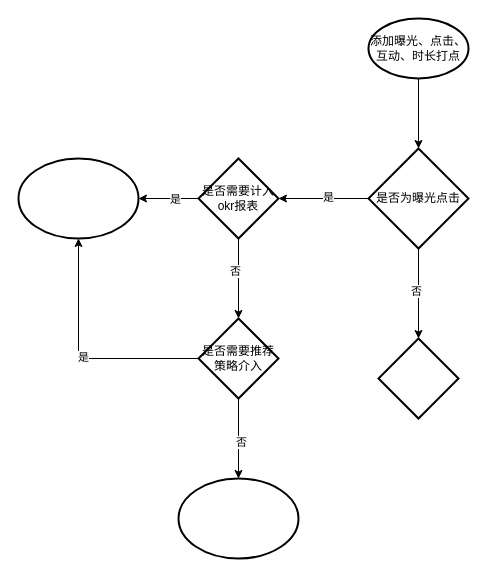
Image size: 486x576. Some labels were removed from this diagram. Each missing label, with the centre of its shape:
按照核心曝光点击规范添加: the point at 78,198
自己添加打点统计: the point at 238,518
